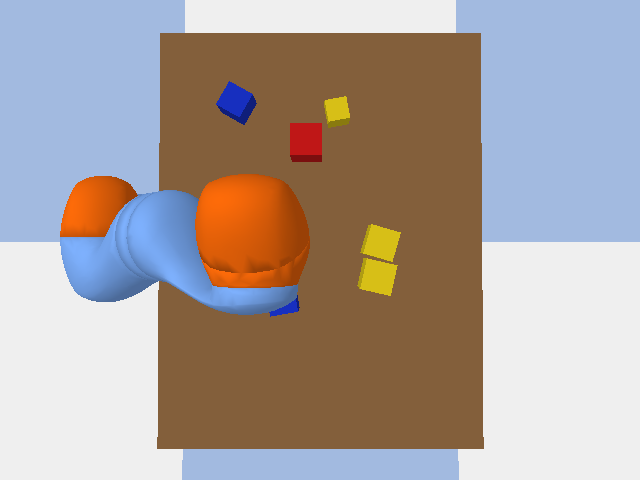blue_obj: (216, 81, 256, 124), (269, 295, 299, 316)
red_obj: (290, 123, 321, 161)
yellow_obj: (360, 224, 400, 261), (357, 258, 397, 295), (324, 96, 349, 127)
